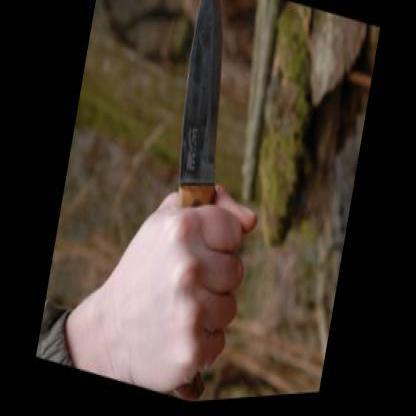knife: (129, 0, 295, 404)
